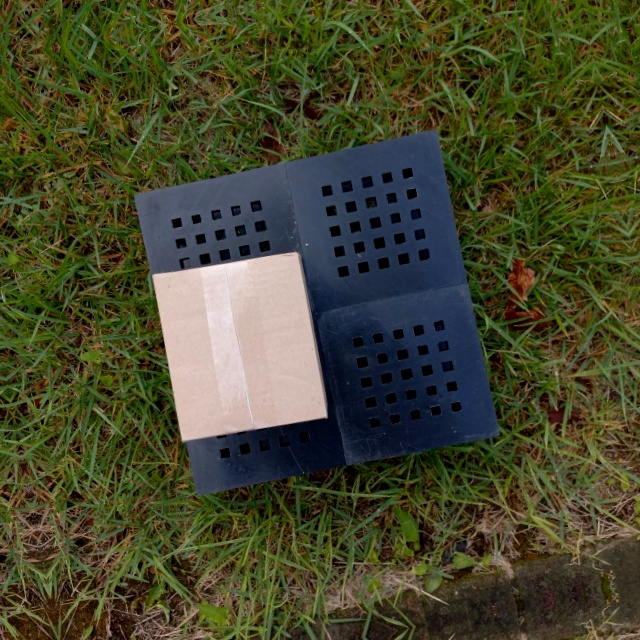box: (149, 247, 329, 446)
pallet: (121, 118, 513, 490)
